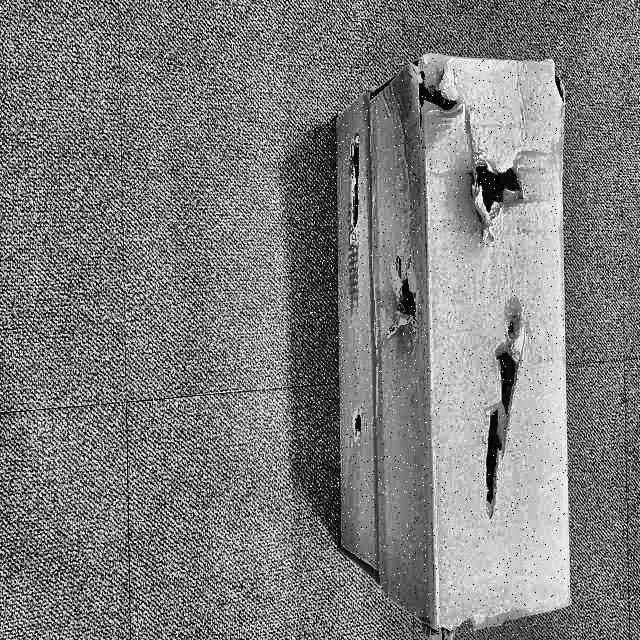box: (319, 43, 590, 636)
hole: (478, 312, 525, 522), (463, 141, 527, 243), (414, 52, 460, 147), (386, 244, 420, 350), (347, 130, 363, 238), (353, 407, 363, 443)
